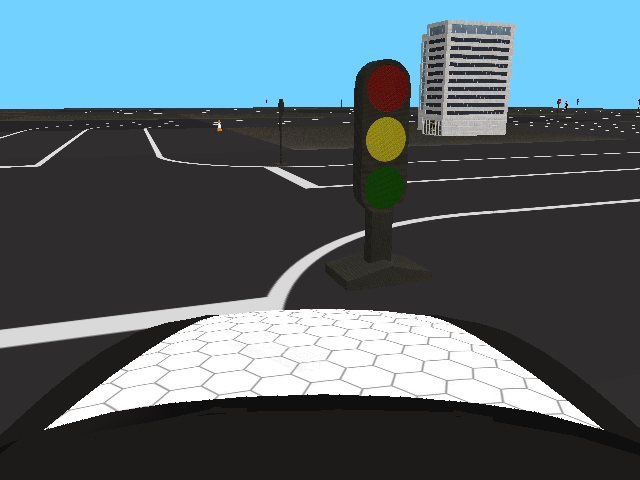yellow_light: (352, 60, 409, 212)
